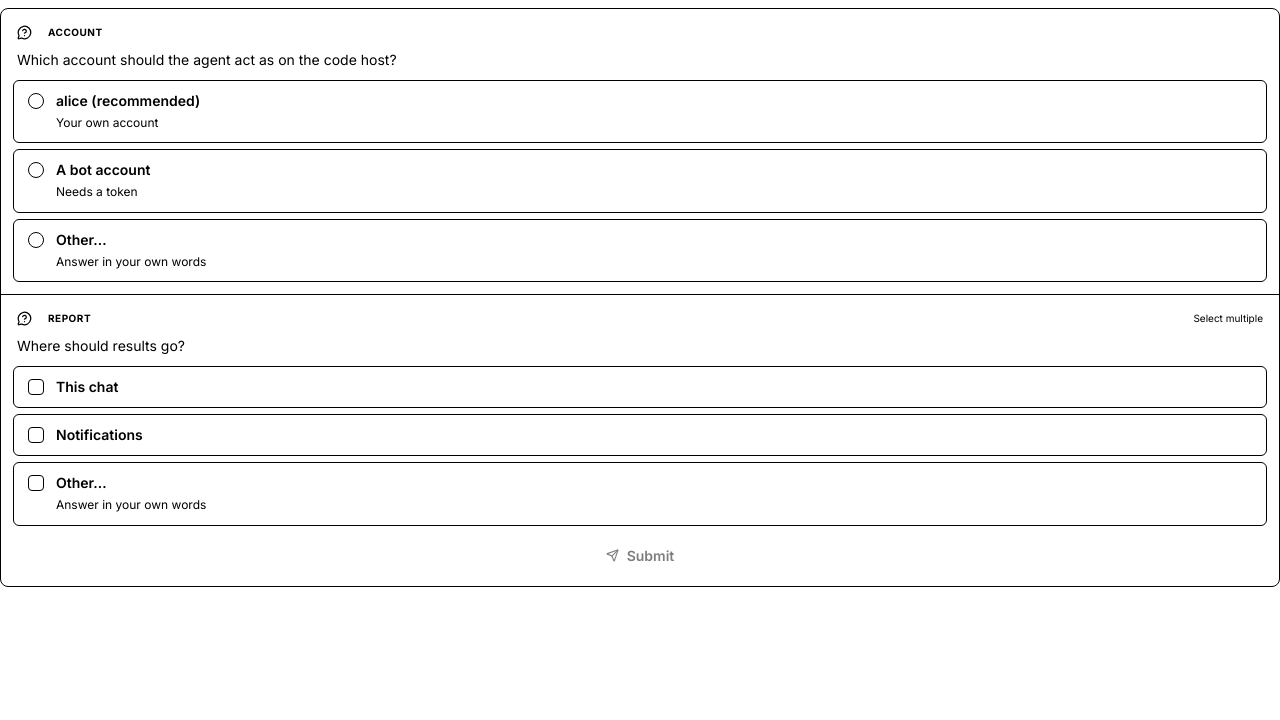
Test: AskUserQuestion: Other… › keeps Submit disabled until every question has an answer
Click the 1st button "Other… Answer in your own words": (81, 239) [13,219,1267,282]
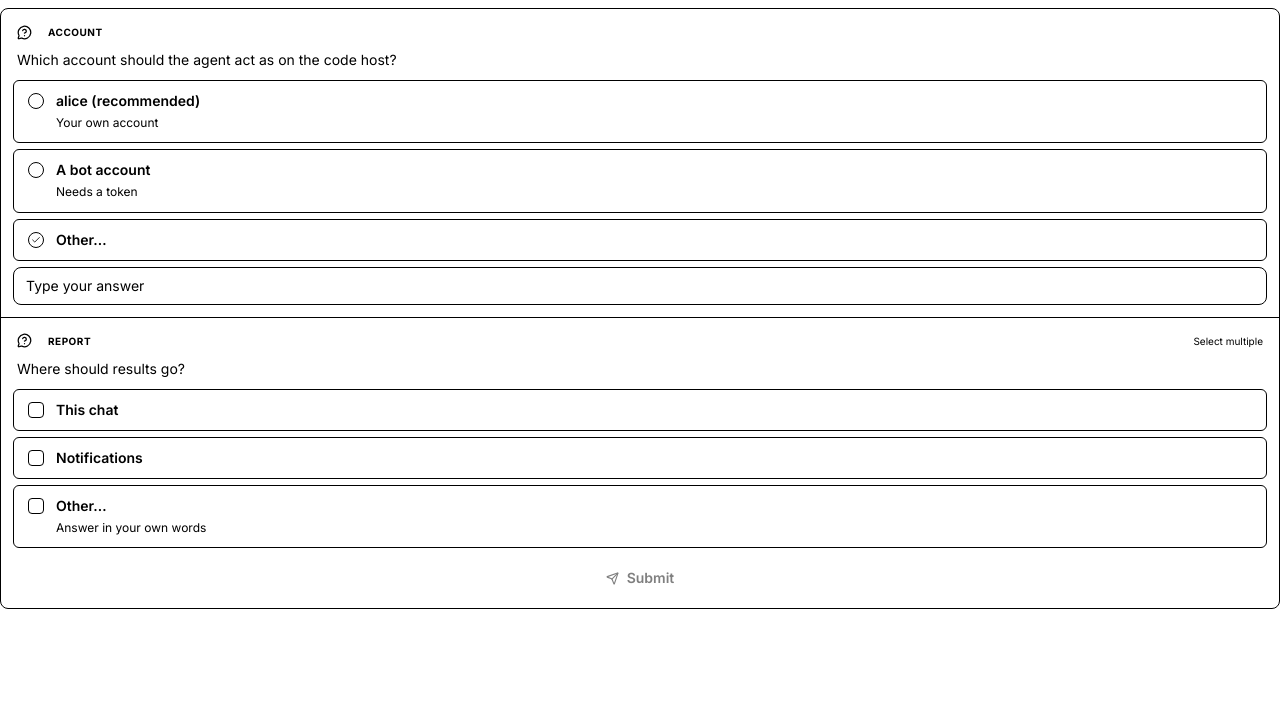
In the field labelled "your answer": (640, 286) [13,267,1267,305], type "bot"
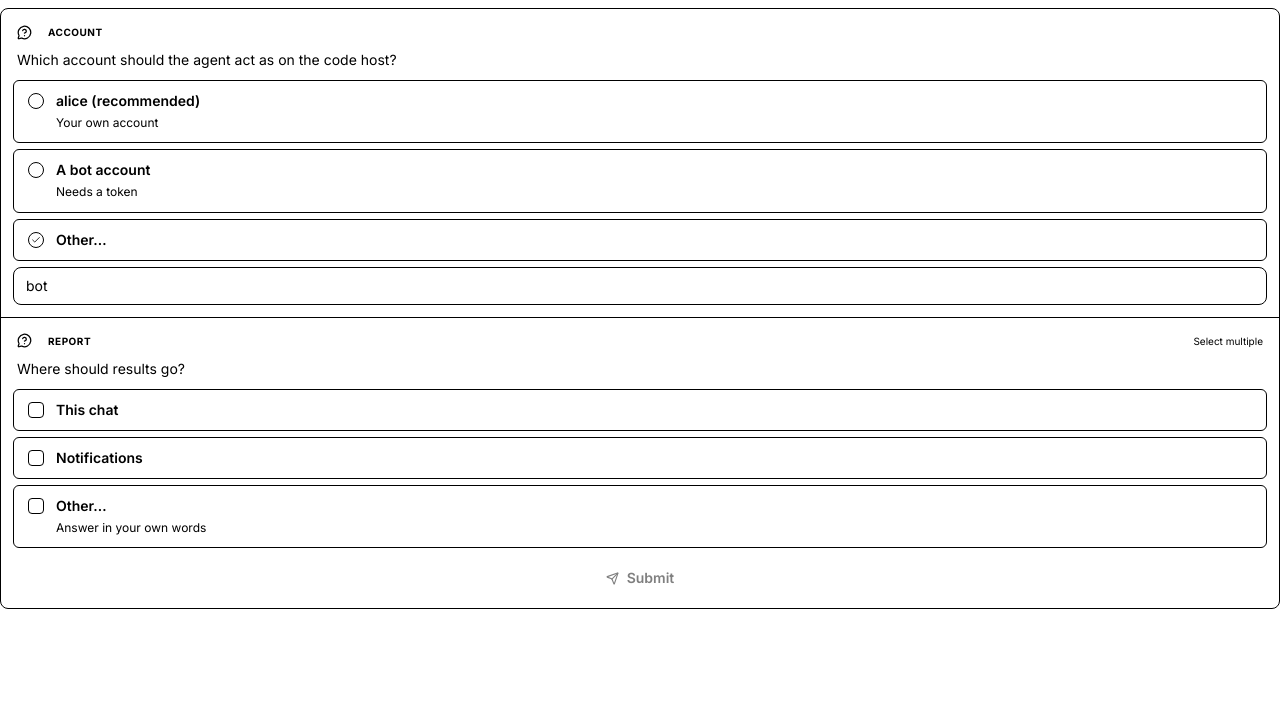
Expected: the button "Submit" is disabled, [13,560,1267,596]
Click the button "This chat": (87, 409) [13,388,1267,430]
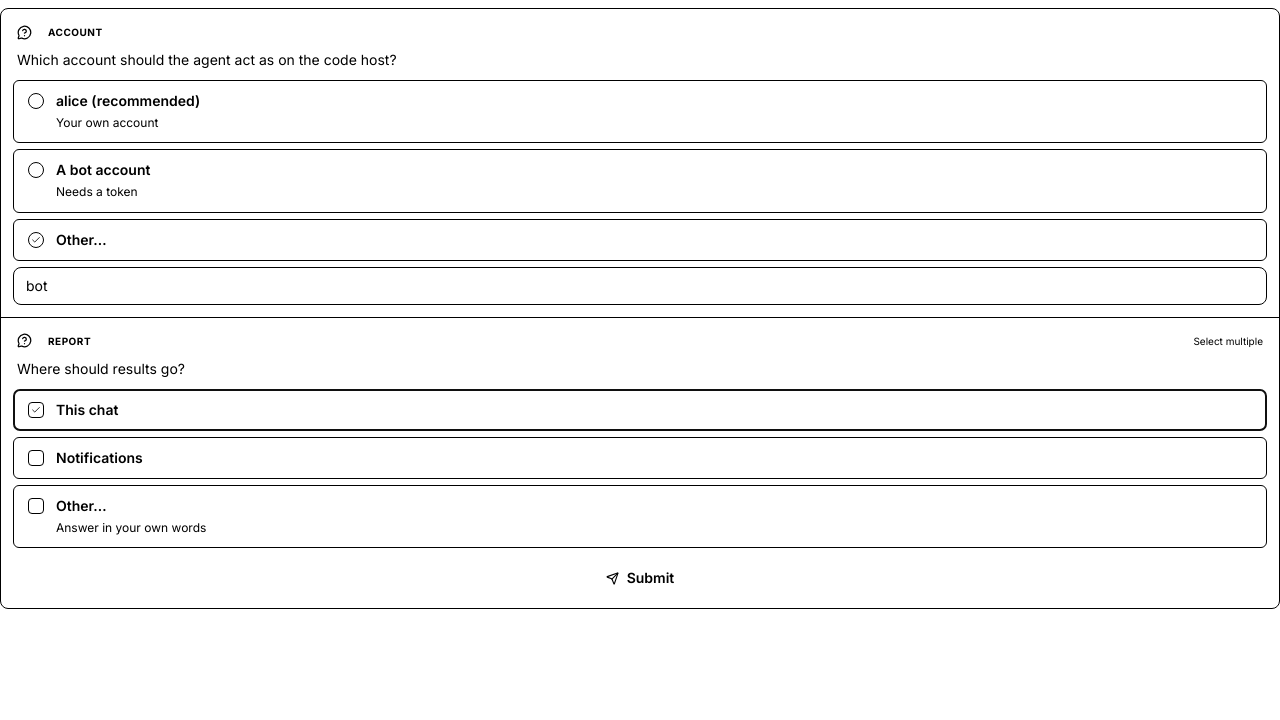
Expected: the button "Submit" is enabled, [13,560,1267,596]
